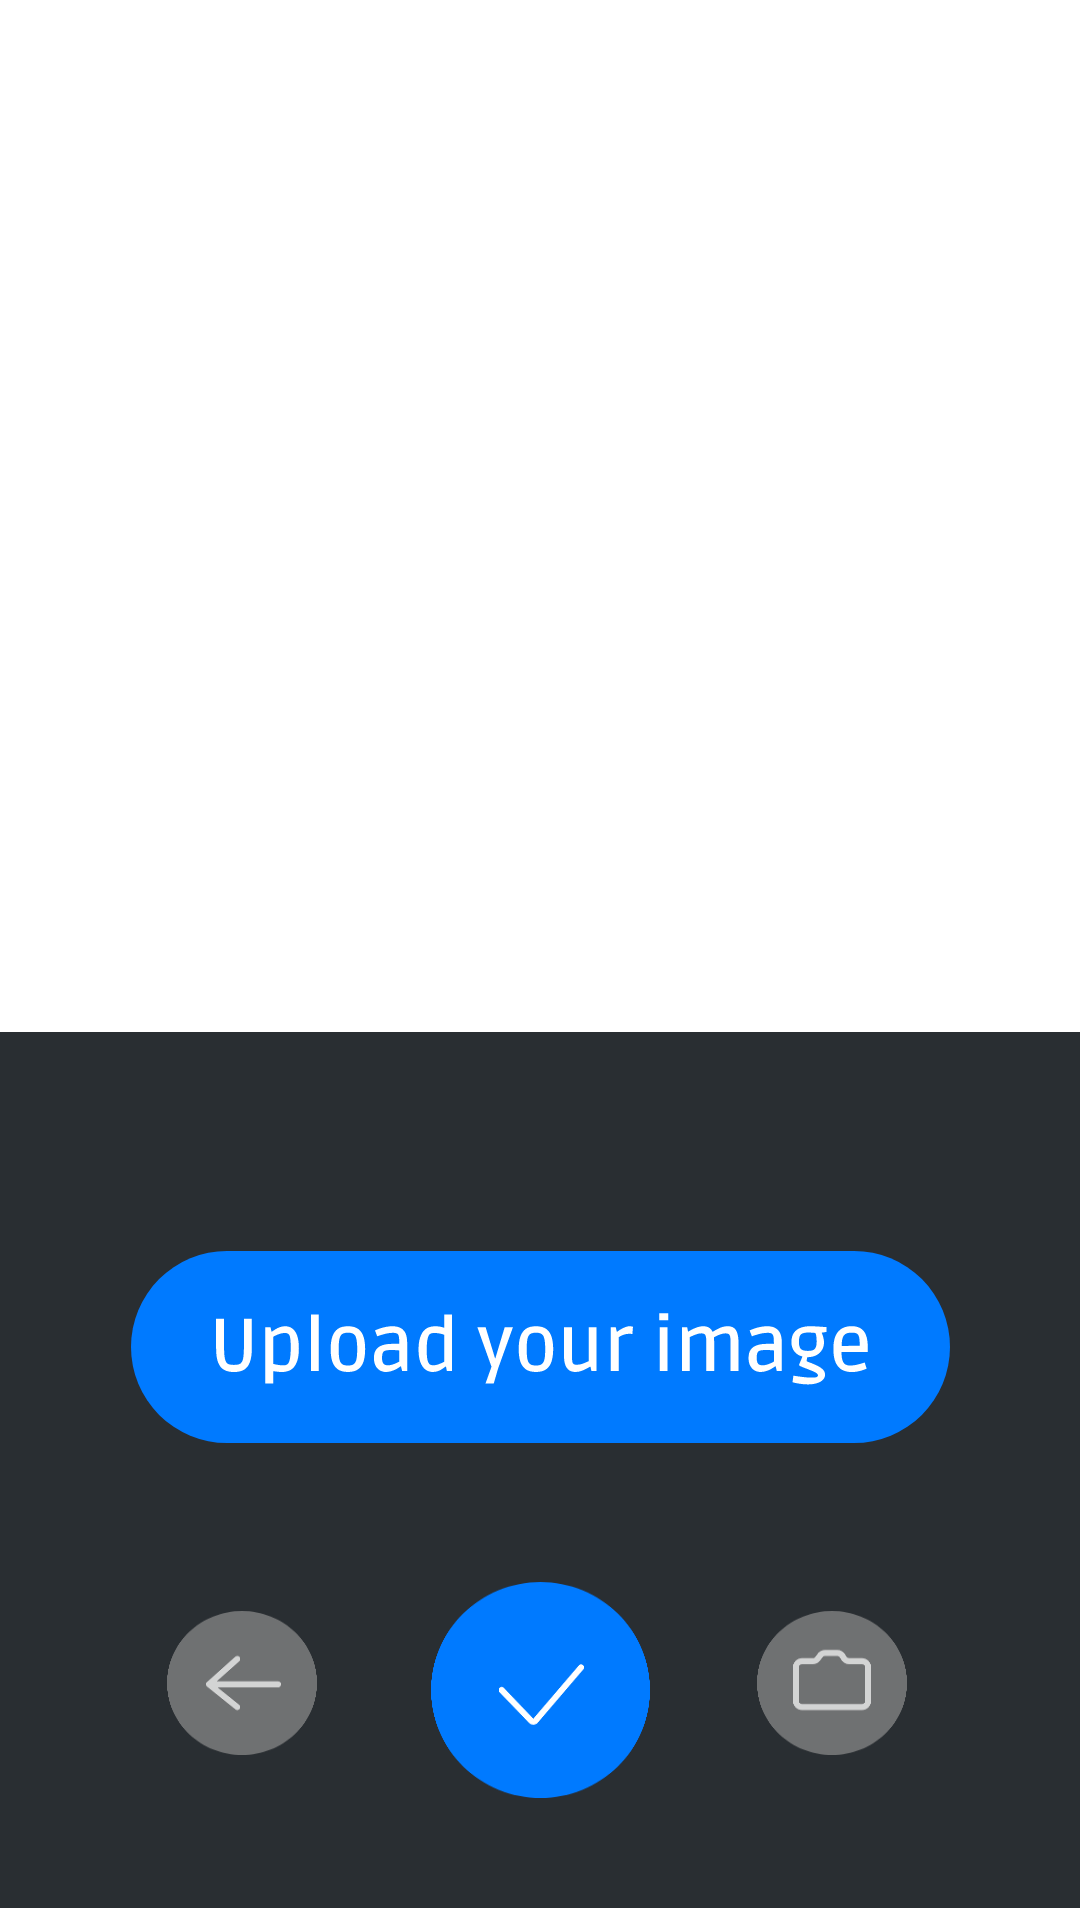

Where to tap for icons on this 1080px x 1920px app screen, as point (x, y):
Go back: point (242, 1683)
take a photo: point (832, 1683)
